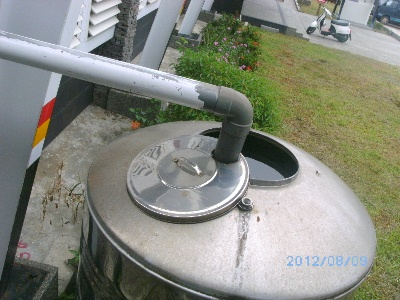water_tower: (76, 111, 379, 299)
